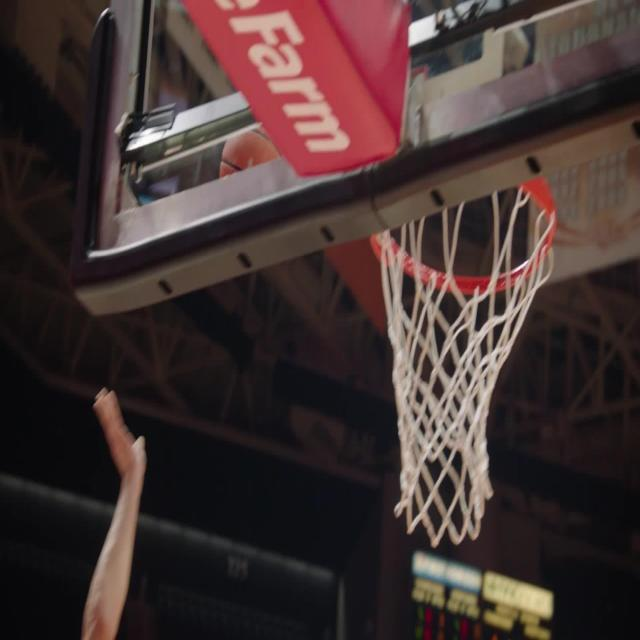Basketball: (219, 124, 280, 180)
hoop: (371, 156, 557, 547)
